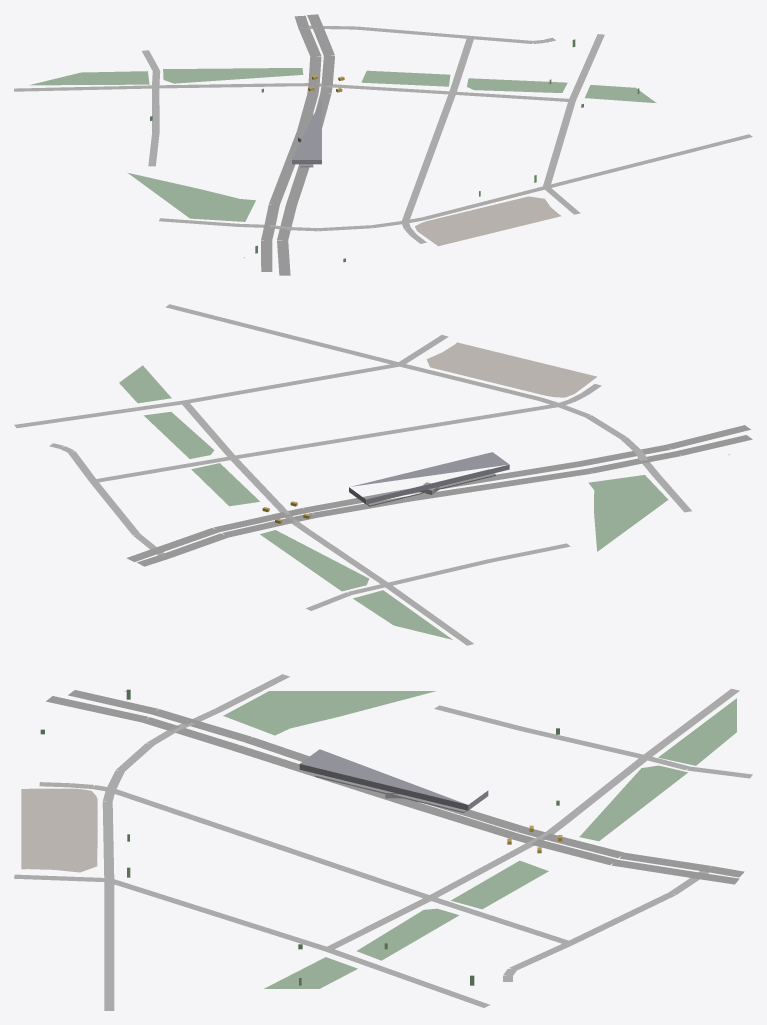
The picture shows the model from 3 angles, top to bottom: view 1: azimuth 30°, elevation 25°; view 2: azimuth 150°, elevation 25°; view 3: azimuth 270°, elevation 25°; orthographic projection. The views are drawn at different scales.
Size of the model in its own units: 567 by 15.85 by 516.
